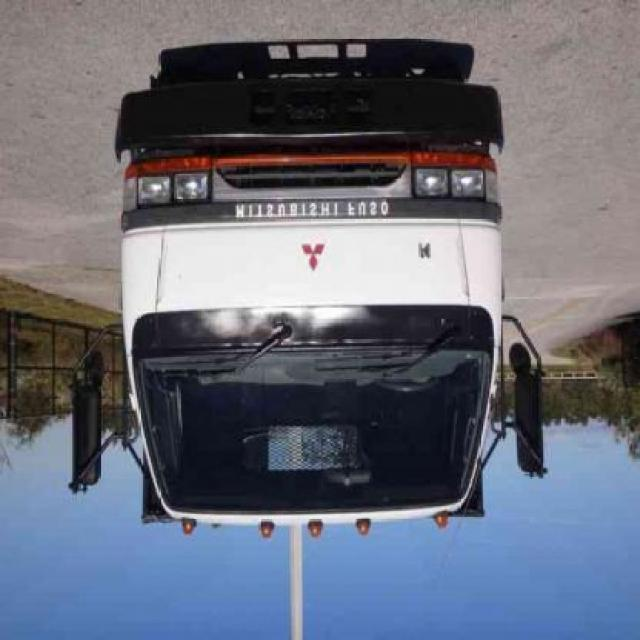truck: (75, 60, 544, 540)
